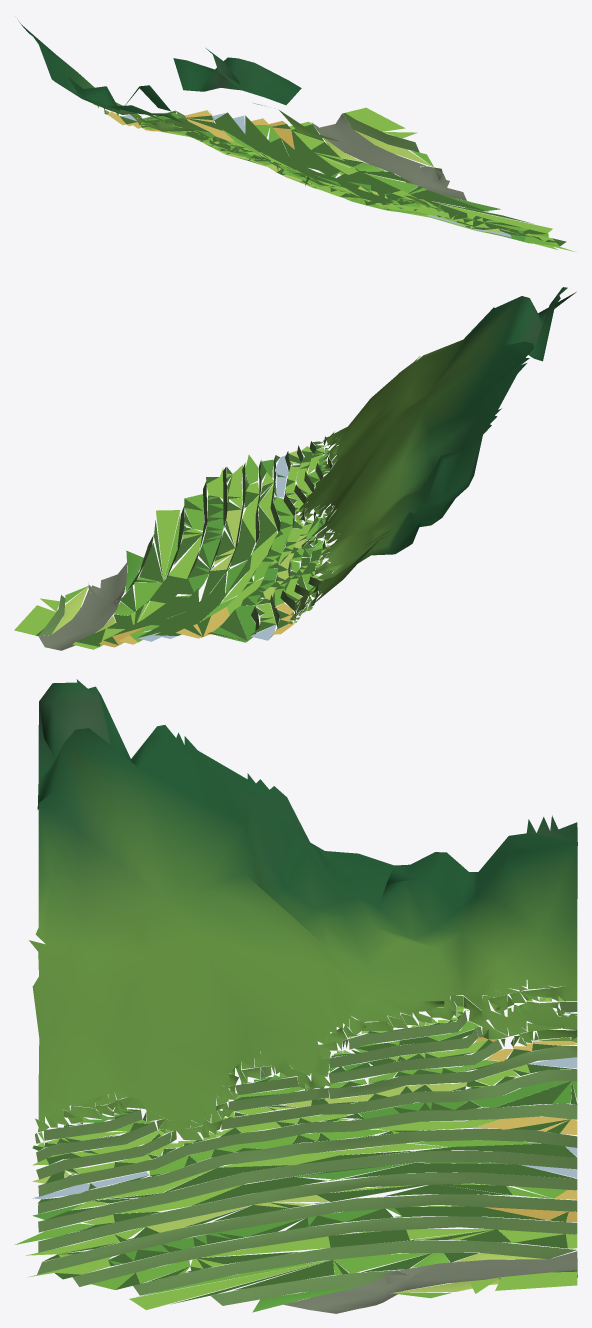
File: payo_land_x0_y3_lod2.glb
3 renders of one model, top to bottom at view 1: azimuth 30°, elevation 25°; view 2: azimuth 150°, elevation 25°; view 3: azimuth 270°, elevation 25°, orthographic. The views are drawn at different scales.
Parts seen in each view (by area): view 1: payo_land_x0_y3; view 2: payo_land_x0_y3; view 3: payo_land_x0_y3.
Part boxes in pixels (bbox=[...]): payo_land_x0_y3: bbox=[18, 20, 574, 251]; payo_land_x0_y3: bbox=[14, 287, 576, 650]; payo_land_x0_y3: bbox=[15, 679, 577, 1313].
Size of the model in its own units: 275 by 210 by 267.
